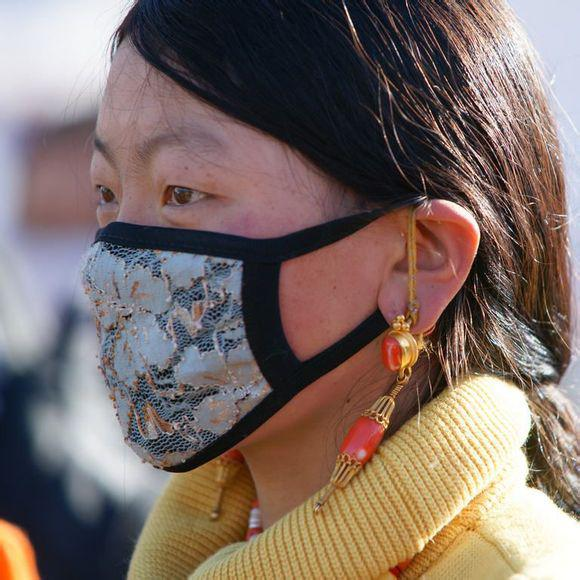OK: (74, 129, 377, 452)
